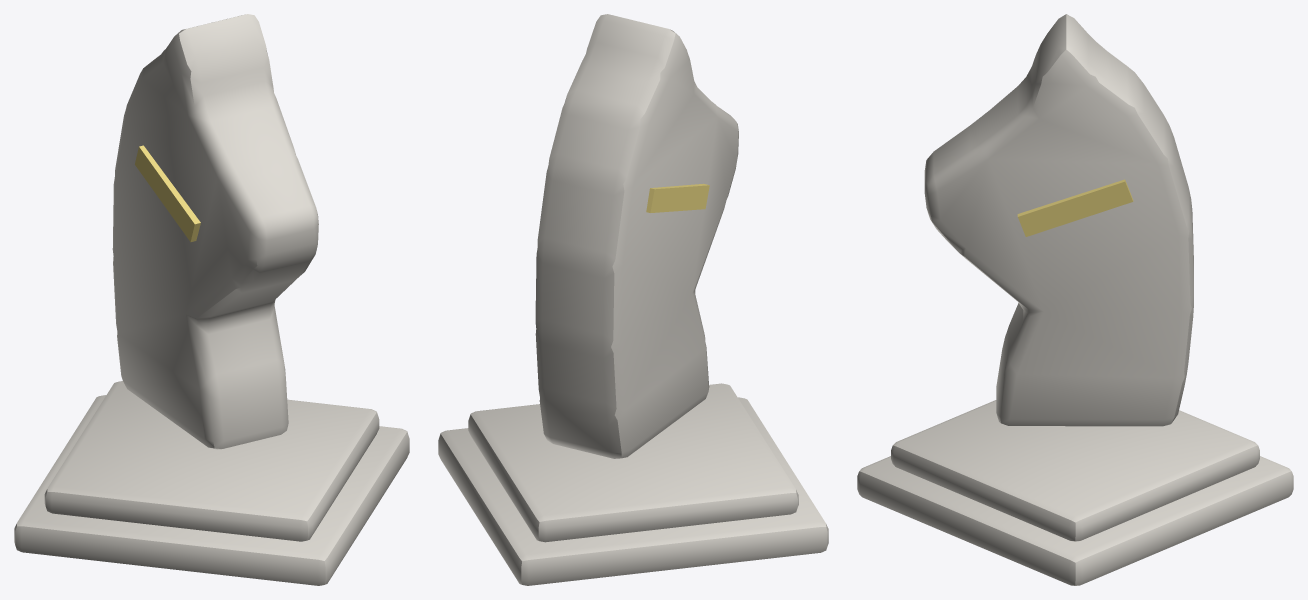
The model's file is Cartagena_Caballo.fbx.
3 views of the same model, side by side, from view 1: azimuth 30°, elevation 25°; view 2: azimuth 150°, elevation 25°; view 3: azimuth 270°, elevation 25° (orthographic). The views are drawn at different scales.
Visible parts, largest first — view 1: Cartagena_Caballo; view 2: Cartagena_Caballo; view 3: Cartagena_Caballo.
Part boxes in pixels (x1=…): Cartagena_Caballo: x1=14, y1=14, x2=409, y2=585; Cartagena_Caballo: x1=438, y1=14, x2=828, y2=585; Cartagena_Caballo: x1=857, y1=14, x2=1293, y2=585.
Bounding box in the file's own units: 0.9168 × 1.09 × 0.9168.
